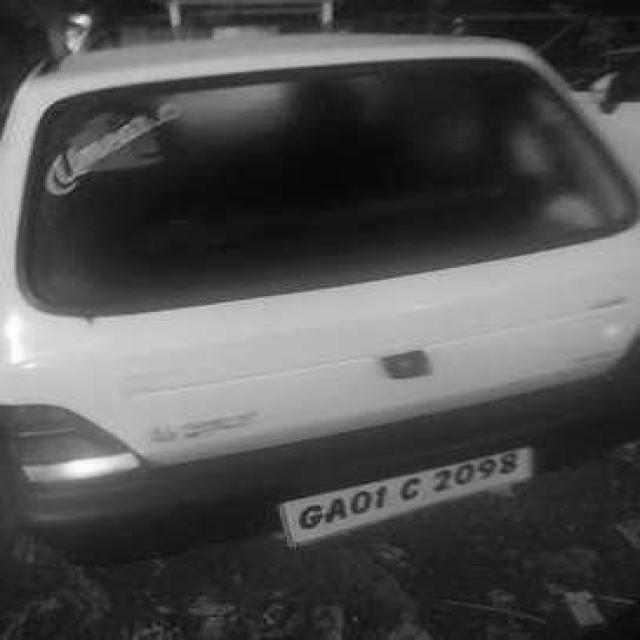license-plate: (276, 442, 544, 552)
